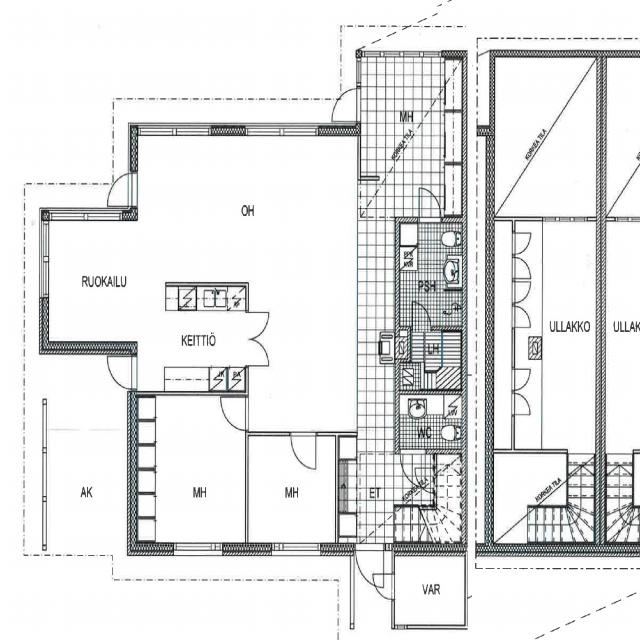door: (356, 543, 383, 587), (331, 88, 361, 122), (108, 173, 138, 206), (107, 356, 137, 388), (220, 397, 249, 430), (291, 431, 316, 469), (401, 449, 425, 486), (419, 188, 441, 222), (245, 338, 268, 366), (245, 312, 268, 340), (412, 302, 431, 331), (414, 468, 436, 492), (373, 574, 394, 598), (512, 306, 530, 328), (512, 233, 530, 254), (512, 368, 530, 389), (512, 393, 530, 414), (512, 258, 530, 278), (512, 282, 530, 302)
